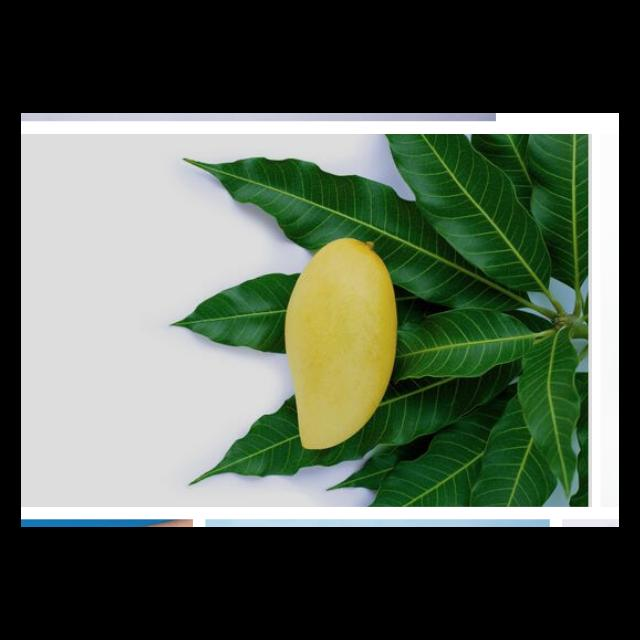mango: (285, 235, 397, 450)
